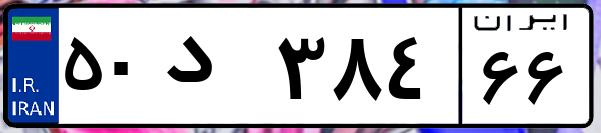0: (110, 28, 158, 98)
3: (270, 28, 330, 110)
4: (385, 28, 445, 110)
5: (57, 26, 110, 100)
6: (475, 38, 525, 113), (525, 38, 570, 115)
8: (330, 28, 385, 110)
د: (158, 20, 270, 120)
